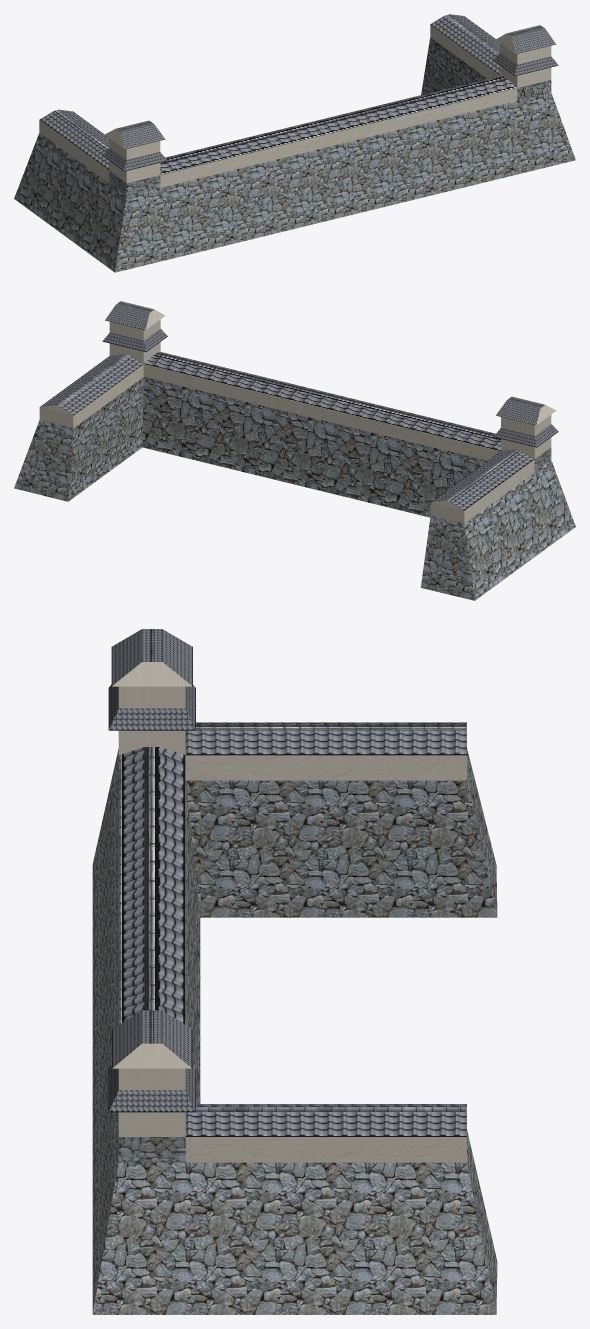
Rendered from kita_demaru.fbx.
3 views of the same model, one above another, from view 1: azimuth 30°, elevation 25°; view 2: azimuth 150°, elevation 25°; view 3: azimuth 270°, elevation 25° (orthographic). The views are drawn at different scales.
Visible parts, largest first — view 1: 立方体; view 2: 立方体; view 3: 立方体.
Boxes of the visible parts, x1,y1,x2,y2 form: 立方体: [14, 14, 575, 272]; 立方体: [14, 301, 575, 600]; 立方体: [92, 629, 497, 1314].
Bounding box in the file's own units: 227 × 59.71 × 86.38.
3 materials, 3 textured.
